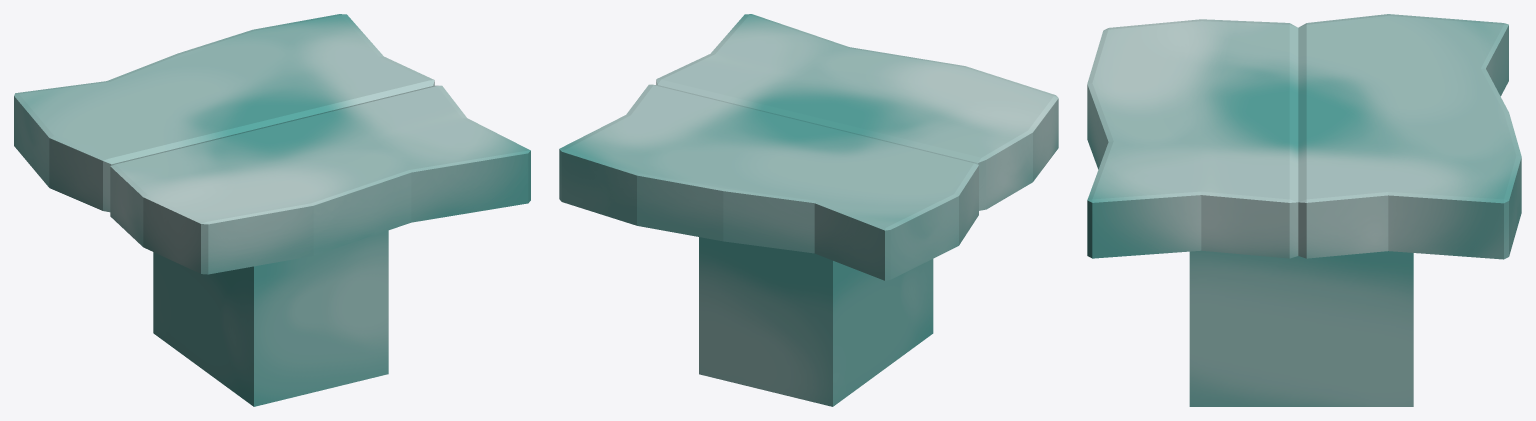
Rendered from TableSmall.glb.
3 views of the same model, side by side, from view 1: azimuth 30°, elevation 25°; view 2: azimuth 150°, elevation 25°; view 3: azimuth 270°, elevation 25° (orthographic). The views are drawn at different scales.
Parts seen in each view (by area): view 1: table small; view 2: table small; view 3: table small.
Boxes of the visible parts, box(x1,y1,x2,y2) form: table small: box(14, 14, 530, 406); table small: box(559, 14, 1058, 406); table small: box(1087, 14, 1521, 406).
Size of the model in its own units: 0.9313 by 0.5916 by 0.9016.
Materials: 1 (1 with a texture image).
